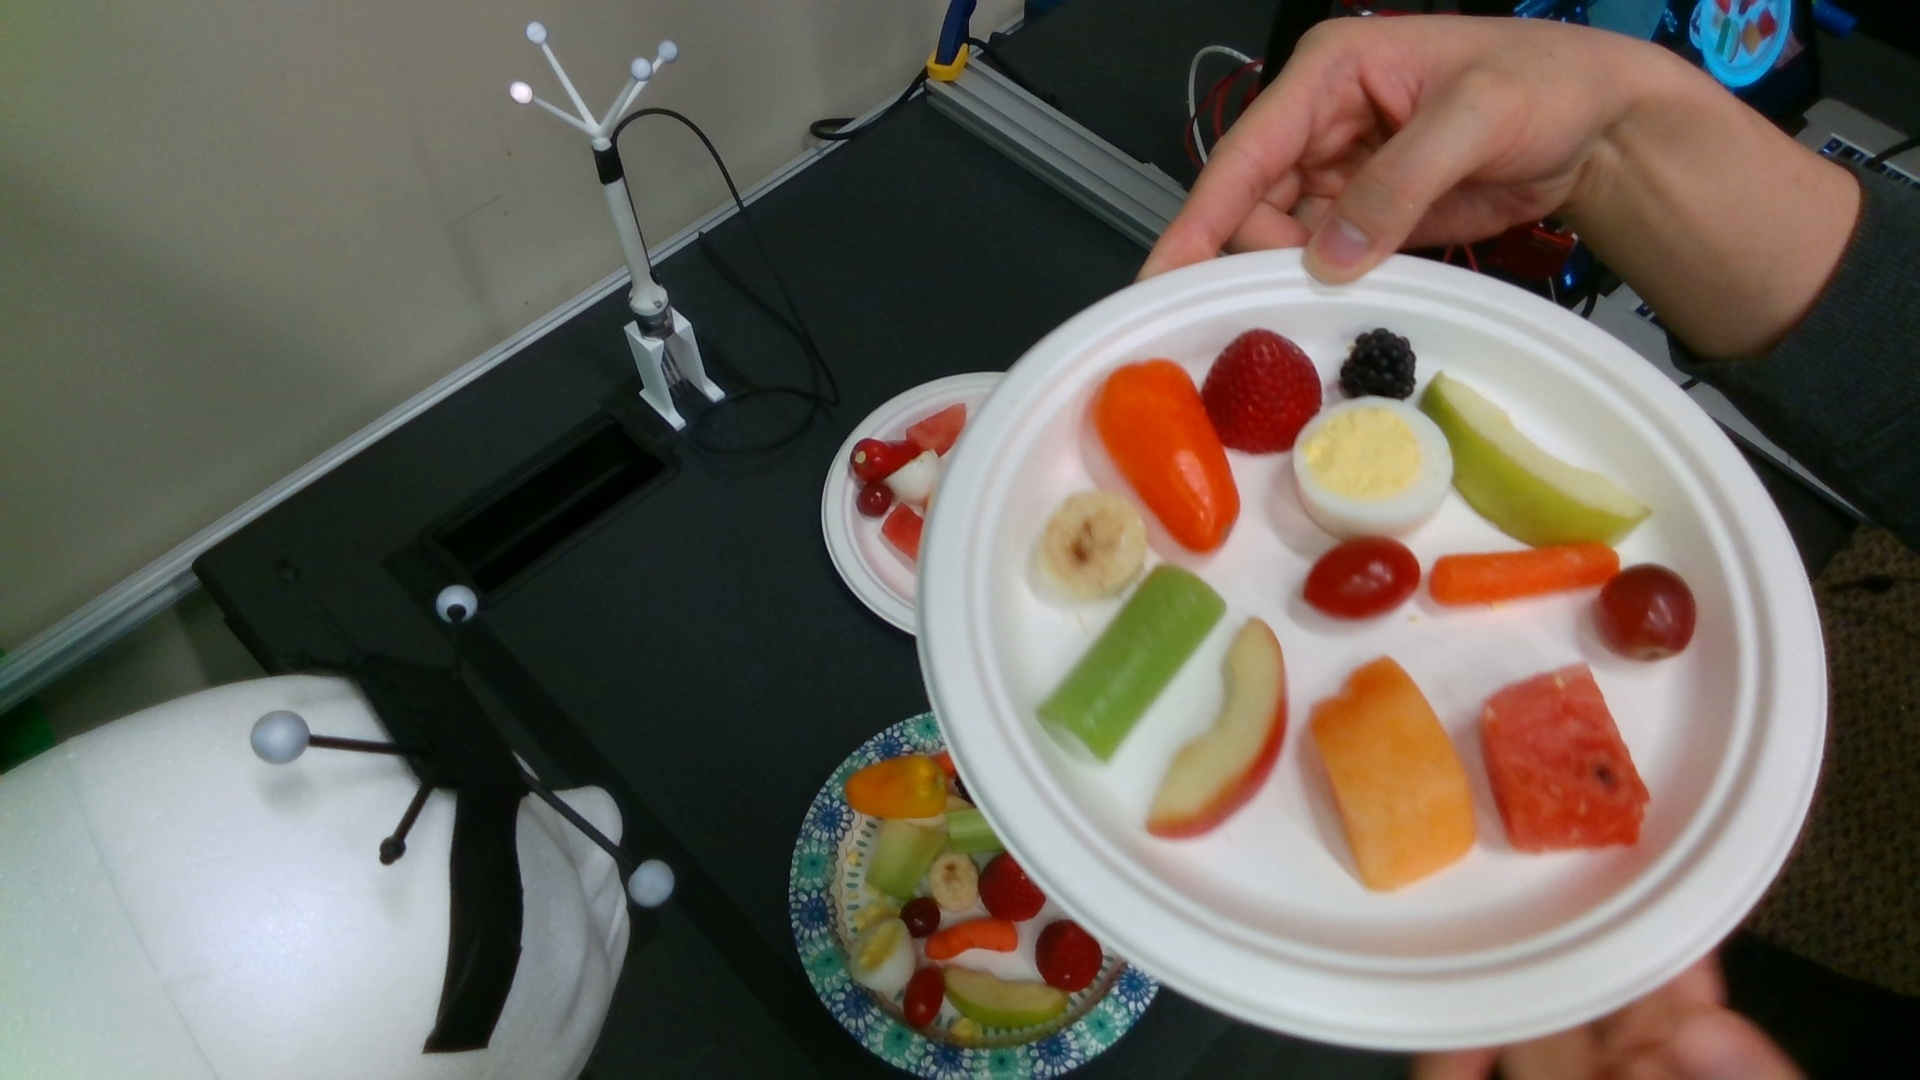apple: (1420, 371, 1652, 543), (1146, 620, 1286, 836), (942, 965, 1069, 1025)
banana: (1040, 492, 1145, 592), (930, 853, 977, 913)
bell_pepper: (1102, 360, 1238, 549), (845, 757, 945, 816), (852, 439, 920, 480)
blackberry: (1342, 330, 1415, 402)
cantalope: (1317, 659, 1476, 885)
carrot: (1431, 545, 1619, 607), (927, 919, 1015, 959)
celery: (1044, 564, 1224, 762), (870, 822, 943, 898)
cherry_tomato: (1305, 535, 1418, 620), (907, 969, 944, 1025)
egg: (1294, 398, 1452, 537), (852, 918, 913, 989)
grape: (1600, 567, 1692, 661), (901, 898, 939, 936), (858, 481, 891, 516)
melon: (1485, 671, 1644, 853), (910, 405, 967, 454), (884, 504, 920, 558)
plate: (916, 248, 1826, 1054), (787, 709, 1166, 1080)
strawberry: (1203, 328, 1323, 451), (981, 853, 1047, 920), (1038, 922, 1100, 990)
